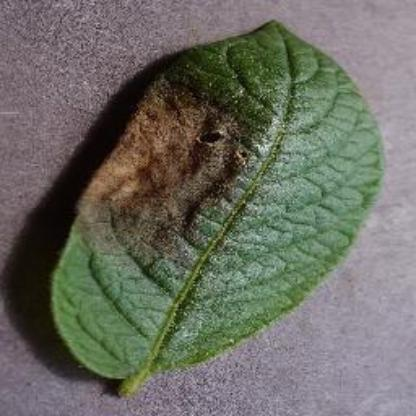Late-Blight: (44, 7, 398, 399)
